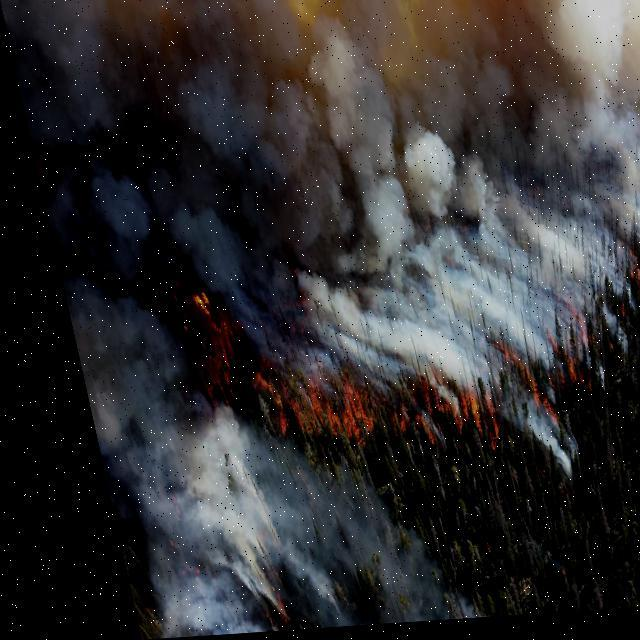Fire: (242, 364, 480, 460), (475, 304, 597, 422), (152, 278, 216, 395)
